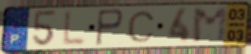4: (166, 6, 193, 46)
5: (30, 9, 58, 50)
C: (126, 10, 157, 44)
L: (60, 10, 88, 47)
M: (191, 6, 229, 45)
P: (94, 8, 126, 47)
